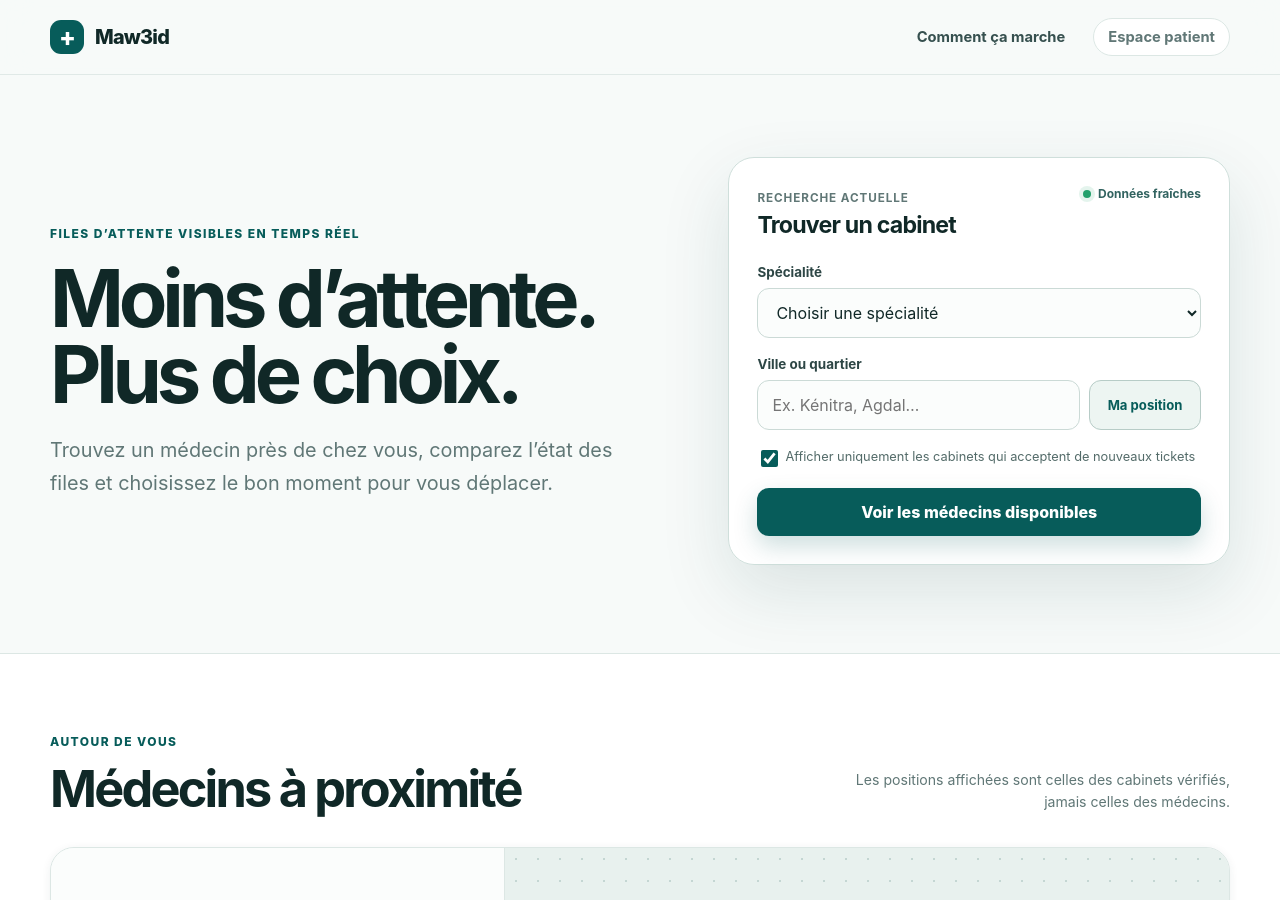
it: PublicSearchPage › submits normalized search criteria and renders an empty state
Select "Cardiologie" in the dropdown labelled "Spécialité": coordinates (979, 313) [757,288,1201,338]
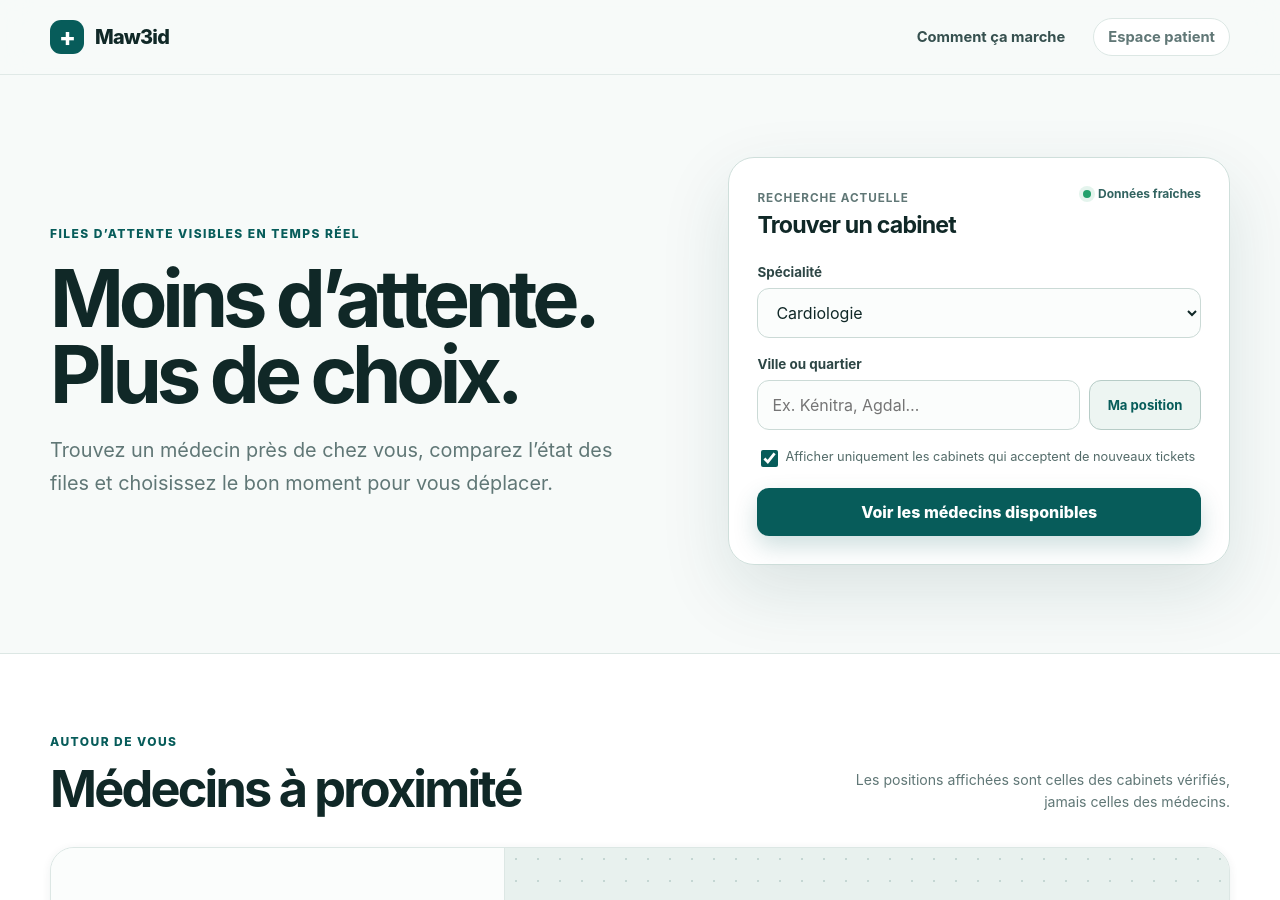
In the field labelled "Ville ou quartier": coordinates (919, 405) [757,380,1080,430], type "  Rabat  "
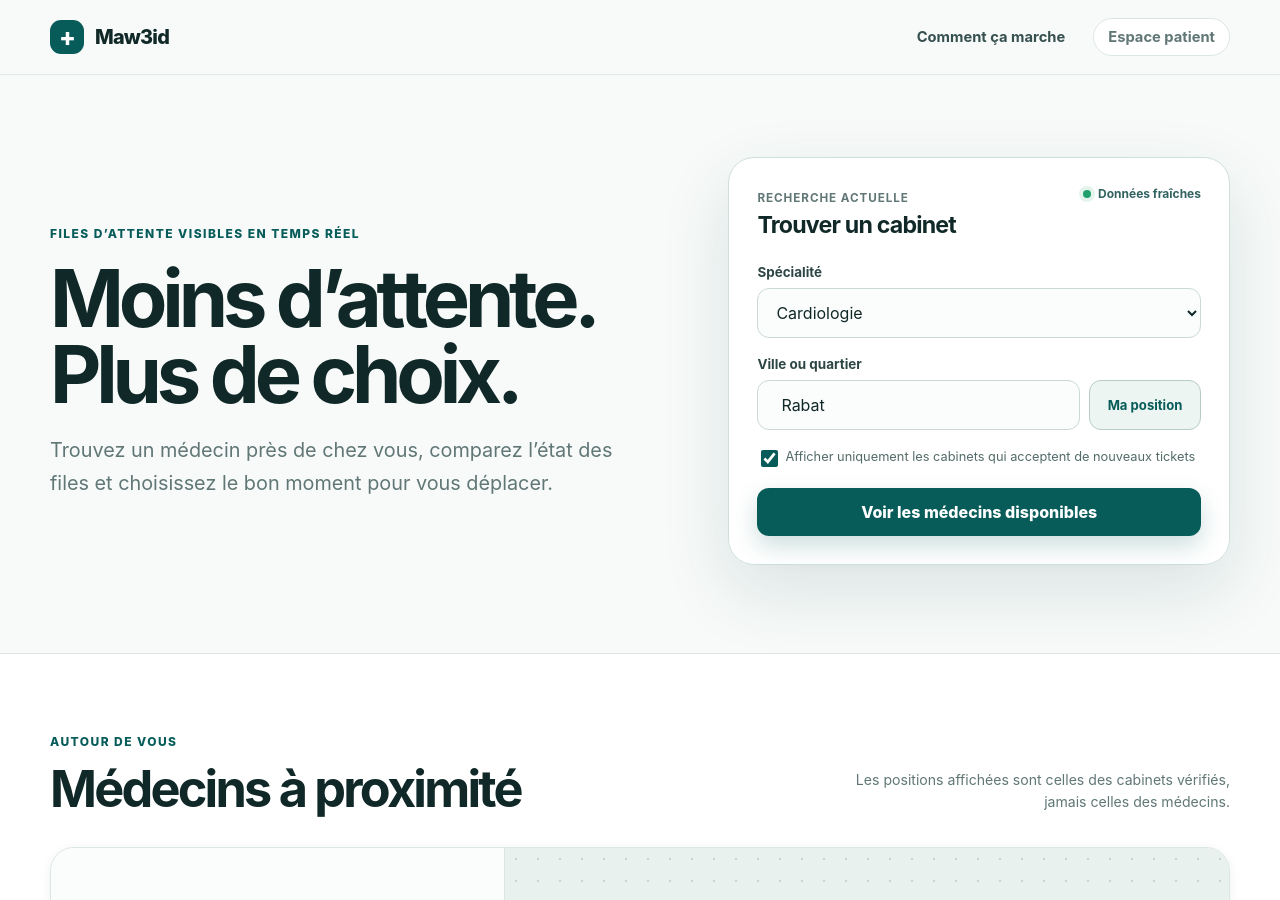
Click the button "Voir les médecins disponibles": coordinates (979, 512) [757,488,1201,536]
(page scrolled)
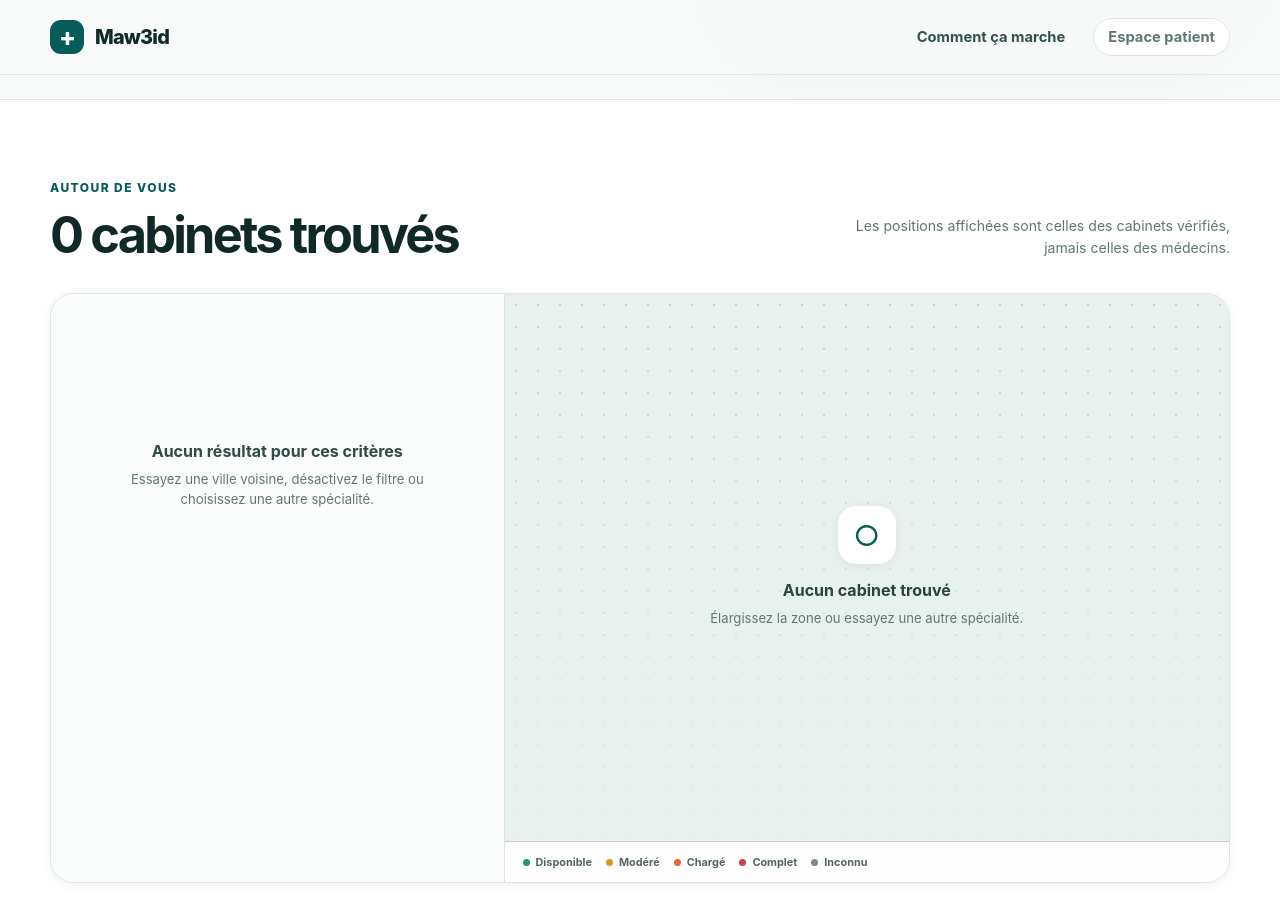
Now the text "Aucun résultat pour ces critères" is shown, box [152,441,403,461]
